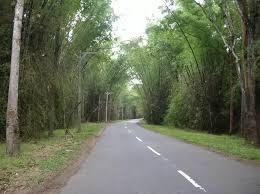field: (0, 123, 105, 193)
road: (62, 119, 259, 193)
